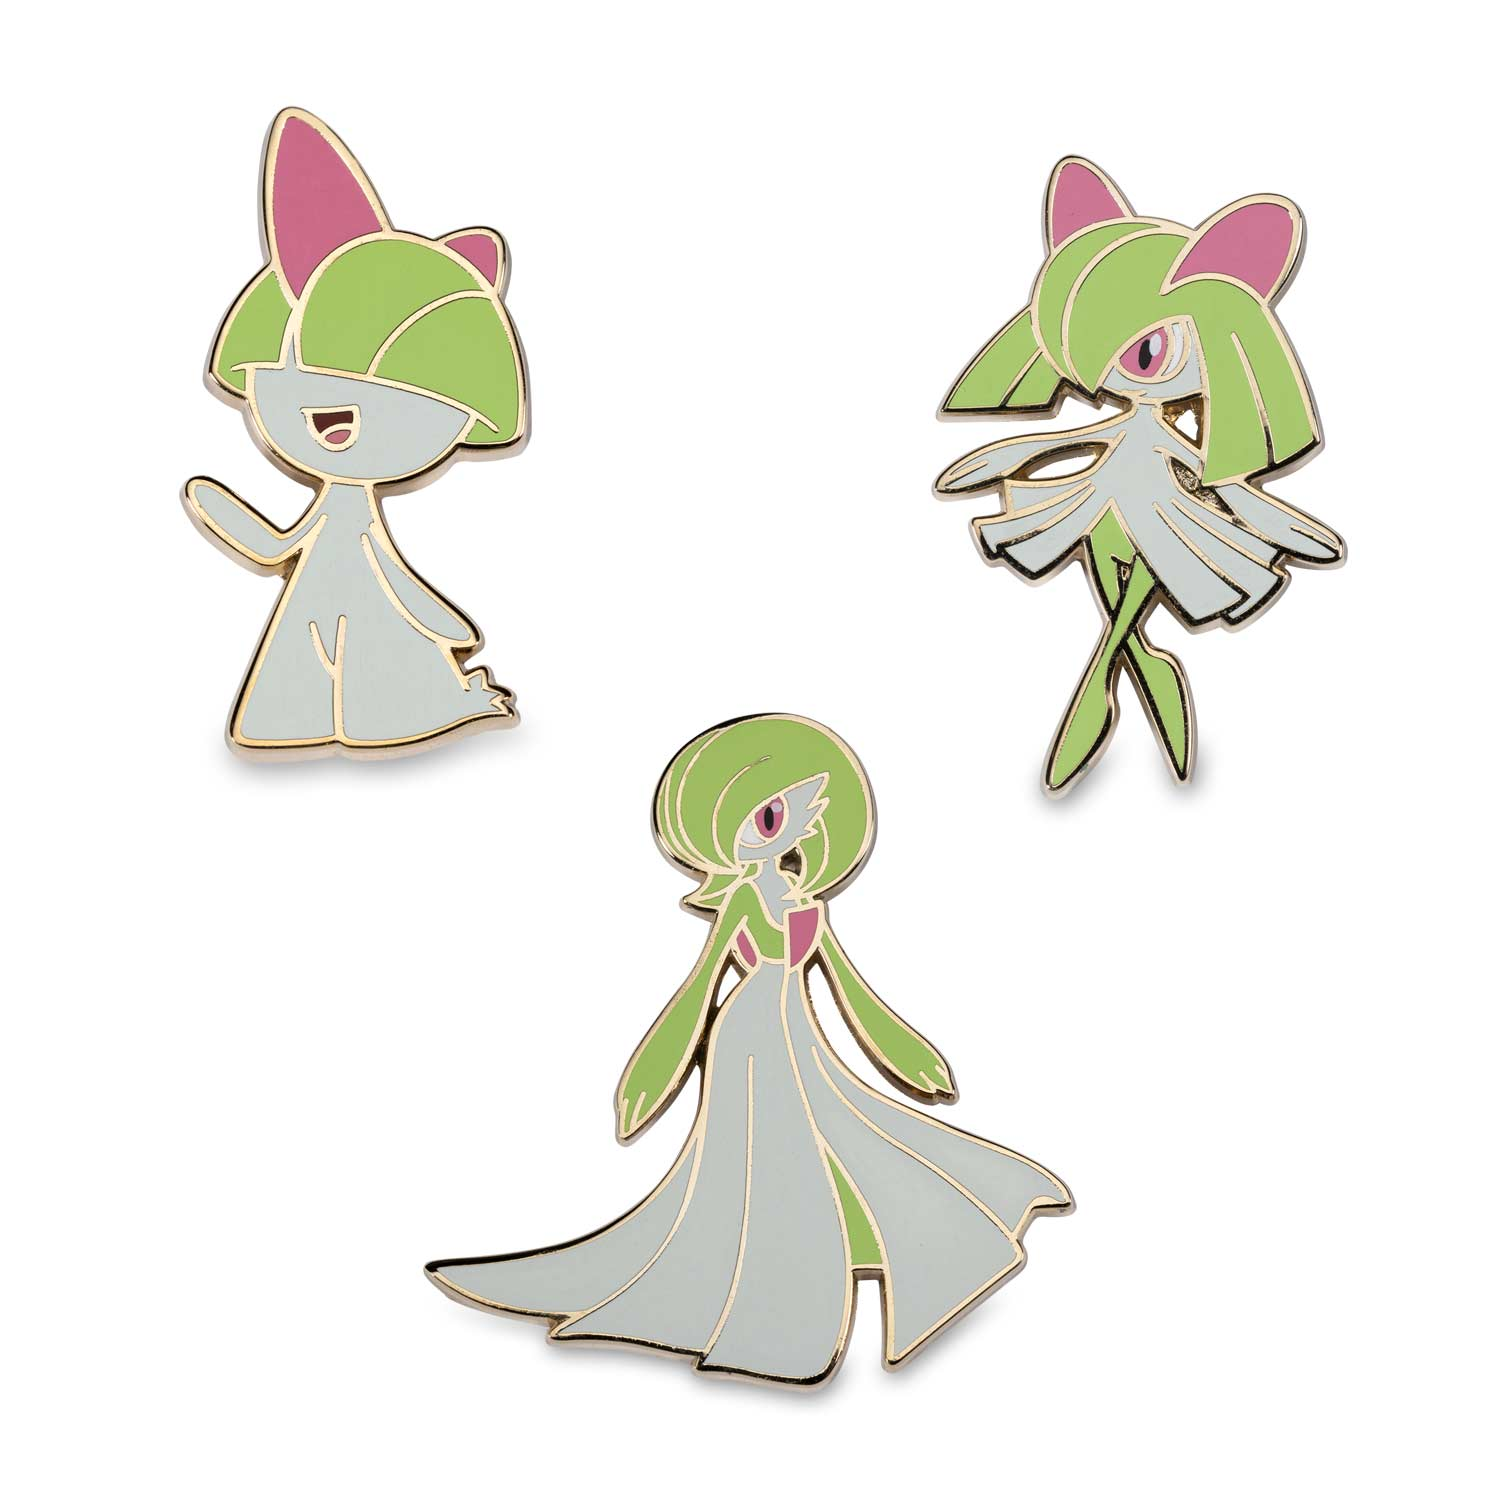gardevoir: (448, 707, 1054, 1378)
